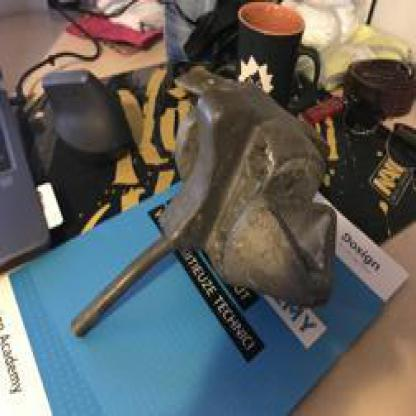Twistlock: (66, 70, 342, 361)
